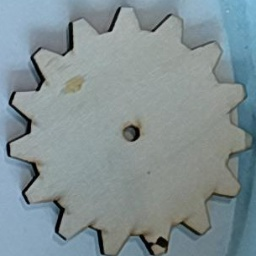Points: (144, 236, 170, 249)
